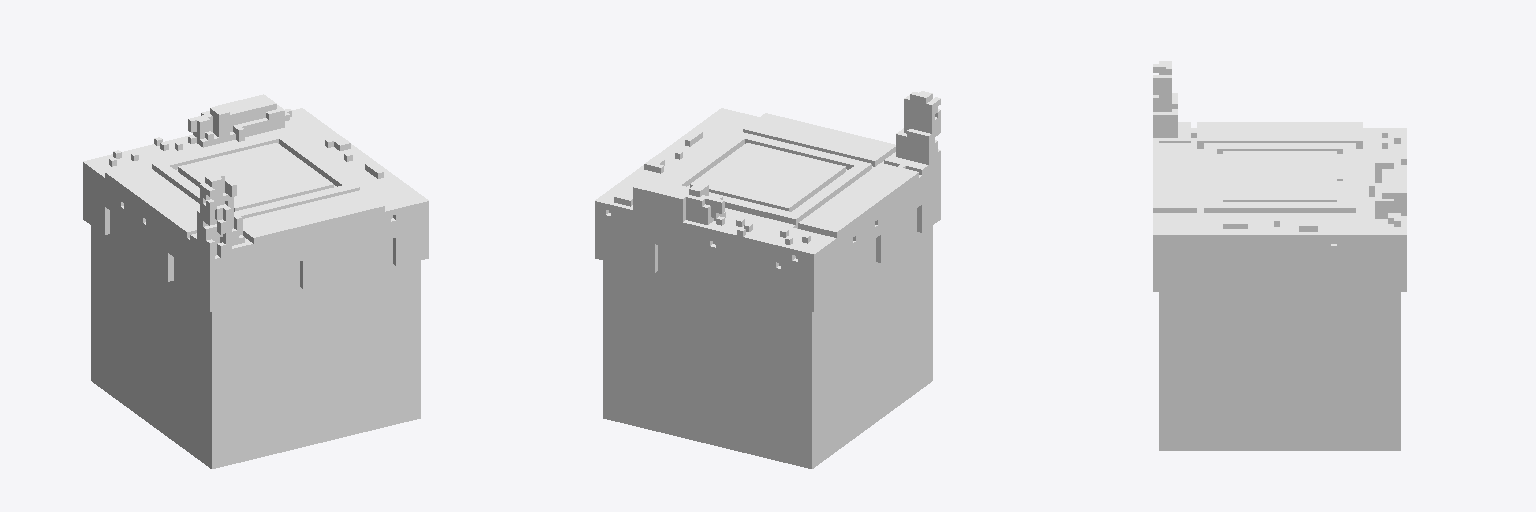
Rendered from tile_base_road_turn.obj.
The picture shows the model from 3 angles: view 1: azimuth 30°, elevation 25°; view 2: azimuth 150°, elevation 25°; view 3: azimuth 270°, elevation 25°; orthographic projection.
Parts seen in each view (by area): view 1: tile_base_road_turn; view 2: tile_base_road_turn; view 3: tile_base_road_turn.
Part boxes in pixels (left/top/right/bottom): tile_base_road_turn: left=83, top=94, right=428, bottom=468; tile_base_road_turn: left=595, top=91, right=940, bottom=468; tile_base_road_turn: left=1153, top=61, right=1406, bottom=450.
Bounding box in the file's own units: 40 × 50 × 40.